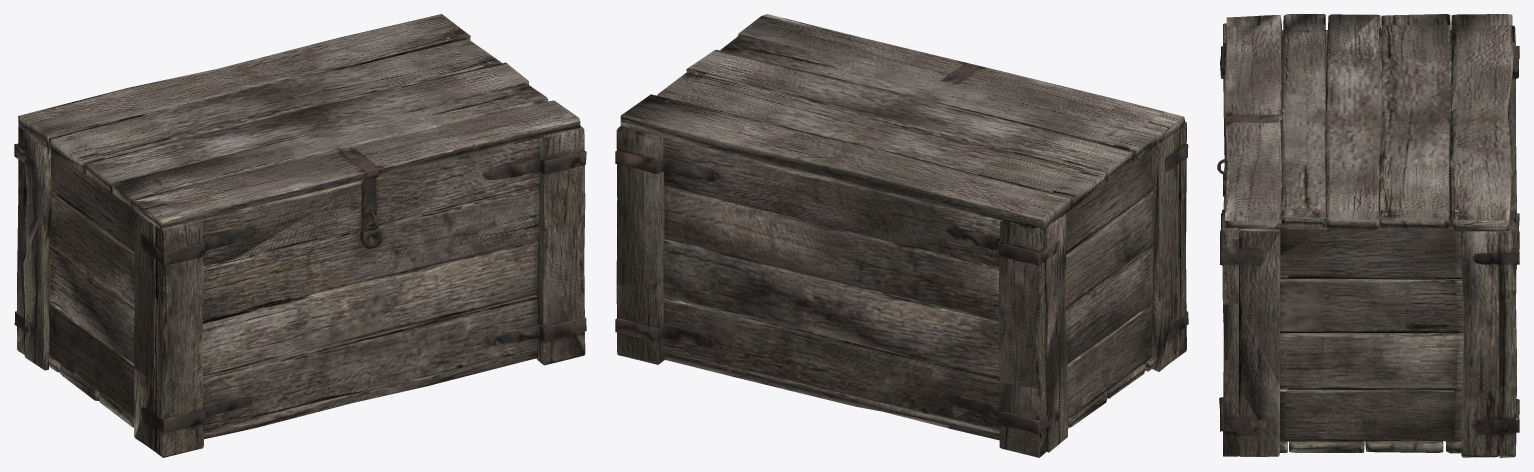
3 renders of one model, left to right at view 1: azimuth 30°, elevation 25°; view 2: azimuth 150°, elevation 25°; view 3: azimuth 270°, elevation 25°, orthographic.
Parts seen in each view (by area): view 1: Mesh_0; view 2: Mesh_0; view 3: Mesh_0.
Part boxes in pixels (x1,y1,x2,y2): Mesh_0: [14, 14, 586, 457]; Mesh_0: [615, 14, 1188, 457]; Mesh_0: [1217, 14, 1519, 457].
Bounding box in the file's own units: 1.13 × 0.6097 × 0.7.
Materials: 1 (1 with a texture image).
